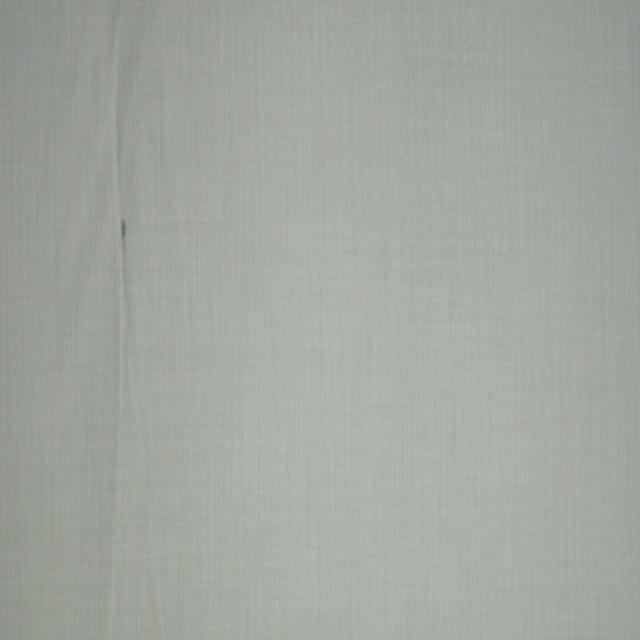dirty: (120, 219, 126, 263)
